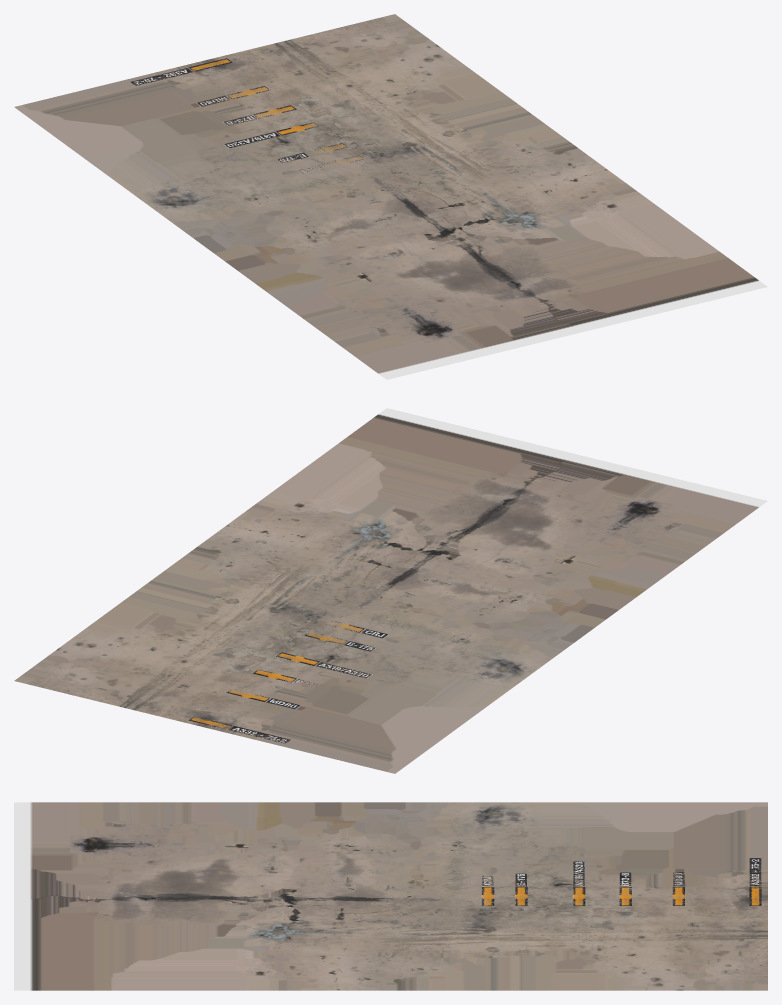
Rendered from Ramp_1_nL.gltf.
The picture shows the model from 3 angles, top to bottom: view 1: azimuth 30°, elevation 25°; view 2: azimuth 150°, elevation 25°; view 3: azimuth 270°, elevation 25°; orthographic projection.
Visible parts, largest first — view 1: Ramp_1_nL; view 2: Ramp_1_nL; view 3: Ramp_1_nL.
Boxes of the visible parts, x1=… form: Ramp_1_nL: x1=14, y1=14, x2=767, y2=379; Ramp_1_nL: x1=14, y1=408, x2=767, y2=773; Ramp_1_nL: x1=14, y1=802, x2=767, y2=990.
Size of the model in its own units: 21.06 by 0 by 35.69.
1 material, 1 textured.
